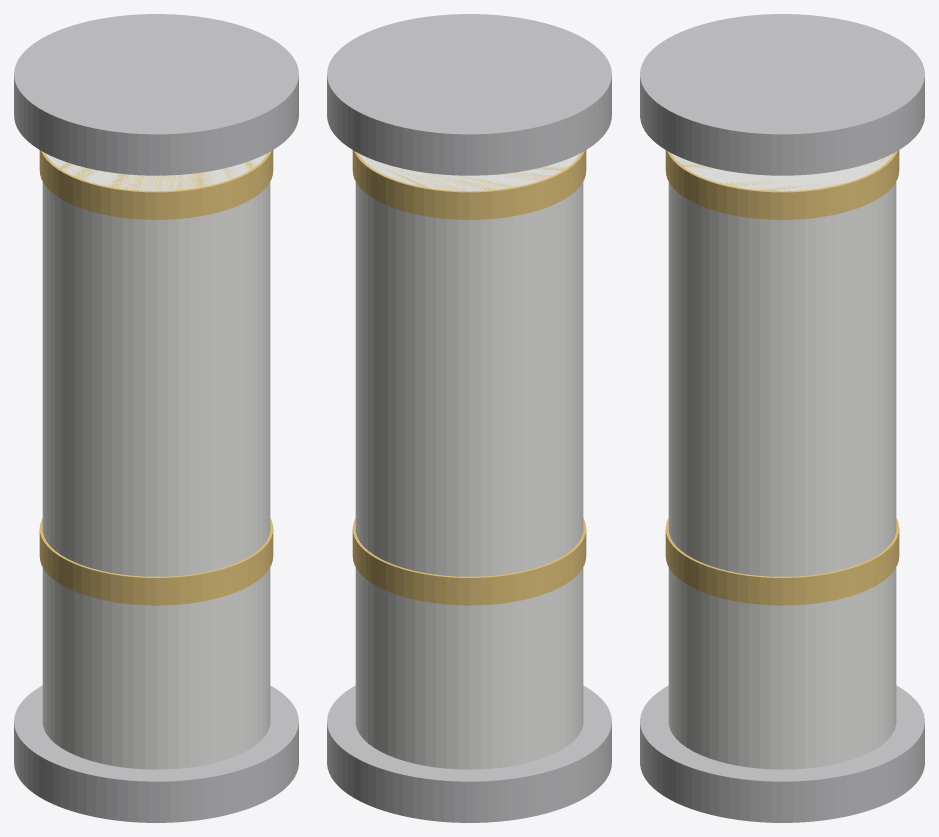
The model's file is robo02_piston_xs.glb.
The picture shows the model from 3 angles, left to right: view 1: azimuth 30°, elevation 25°; view 2: azimuth 150°, elevation 25°; view 3: azimuth 270°, elevation 25°; orthographic projection.
Visible parts, largest first — view 1: barrel, rod_plate, base_plate, barrel_bands; view 2: barrel, rod_plate, base_plate, barrel_bands; view 3: barrel, rod_plate, base_plate, barrel_bands.
Part boxes in pixels (<box>): barrel: <box>42,153,270,769</box>; rod_plate: <box>14,14,298,175</box>; base_plate: <box>14,685,298,822</box>; barrel_bands: <box>39,150,273,605</box>; barrel: <box>355,153,583,769</box>; rod_plate: <box>327,14,611,175</box>; base_plate: <box>327,685,611,822</box>; barrel_bands: <box>352,150,586,605</box>; barrel: <box>668,153,896,769</box>; rod_plate: <box>640,14,924,175</box>; base_plate: <box>640,685,924,822</box>; barrel_bands: <box>665,150,899,605</box>.
Bounding box in the file's own units: 0.15 × 0.4 × 0.1499.
